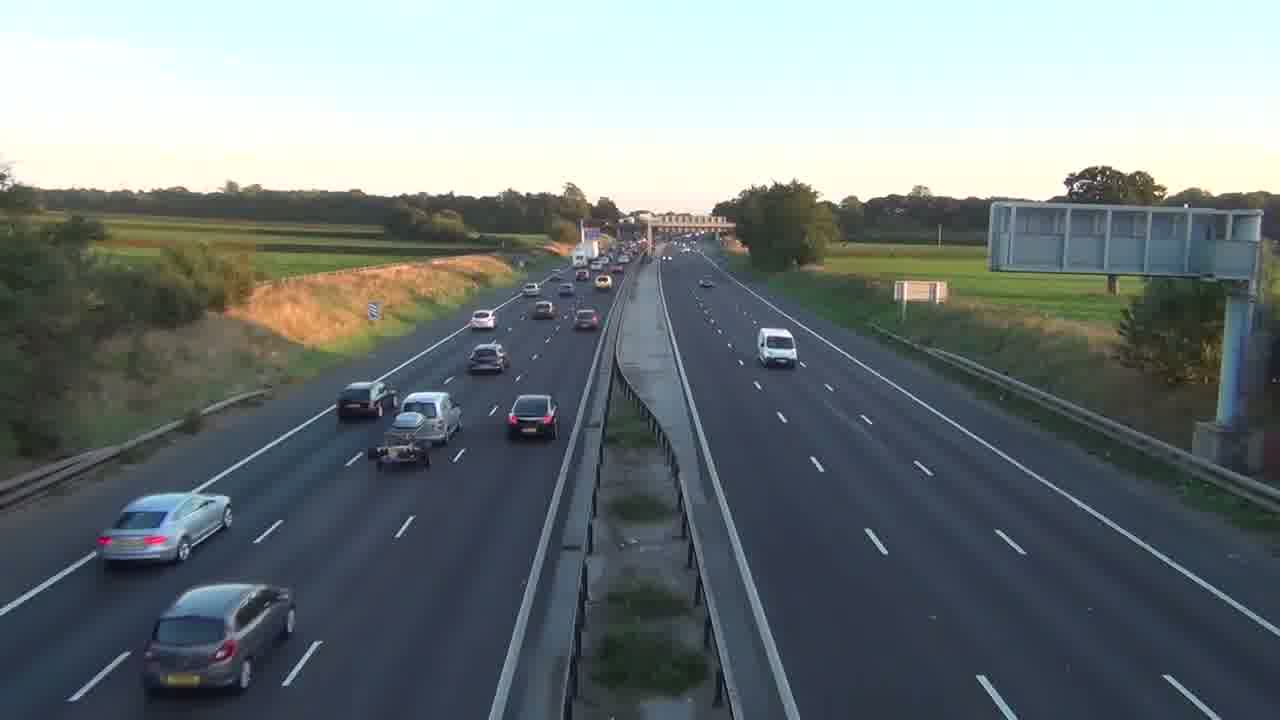car: (142, 581, 297, 695), (95, 491, 233, 567), (402, 390, 463, 444), (506, 393, 560, 440), (336, 380, 390, 421), (467, 342, 508, 374), (573, 307, 600, 331), (470, 309, 496, 329)
truck: (757, 327, 799, 369)
